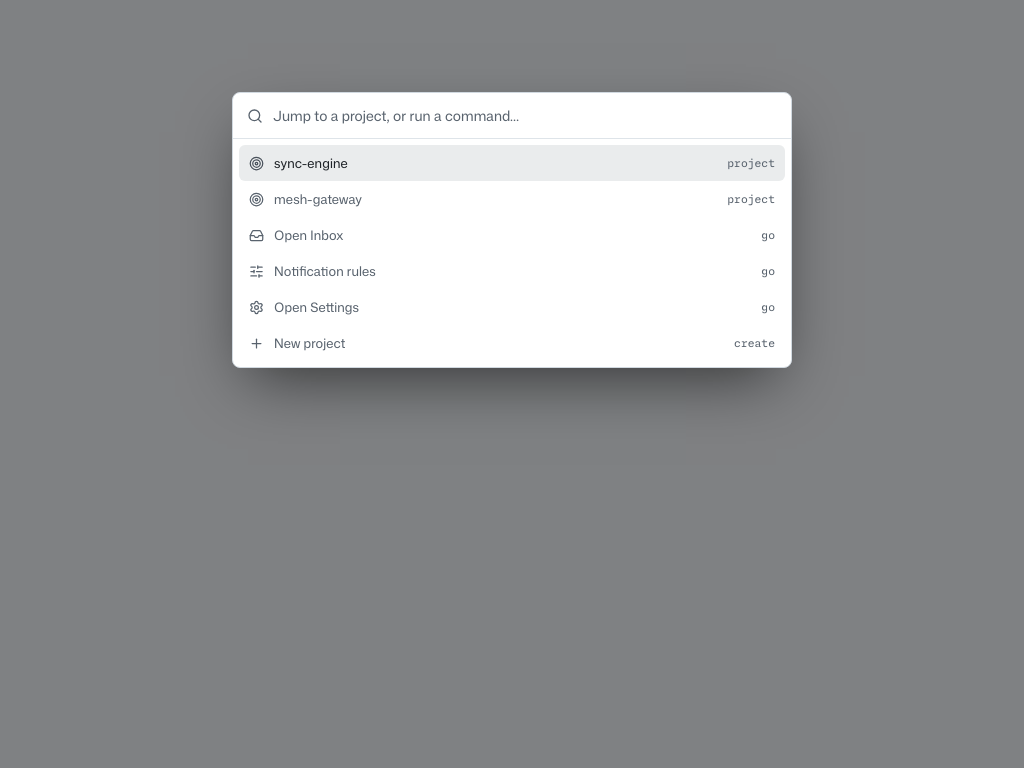
CommandPalette › filters entries by the query
Type "mesh" into the field with placeholder "Jump to a project, or run a command…" at point(525, 116), box [273,106,777,125]
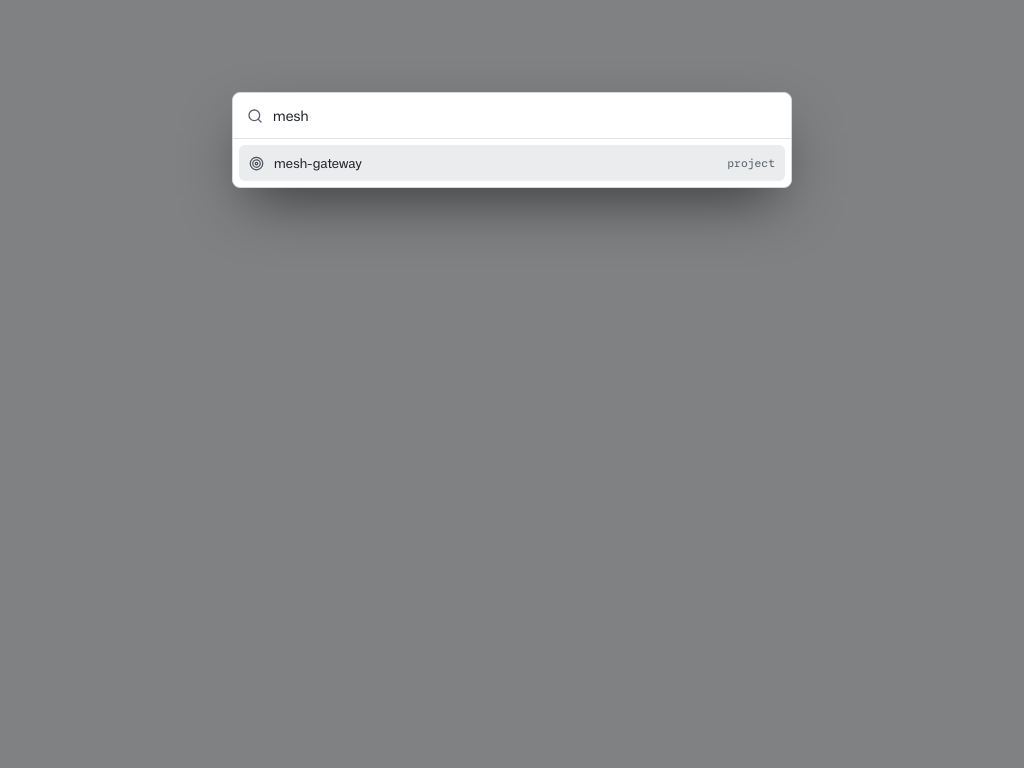
Expected: the text "mesh-gateway" is shown, [274,154,362,172]
Expected: the button "sync-engine" is gone
